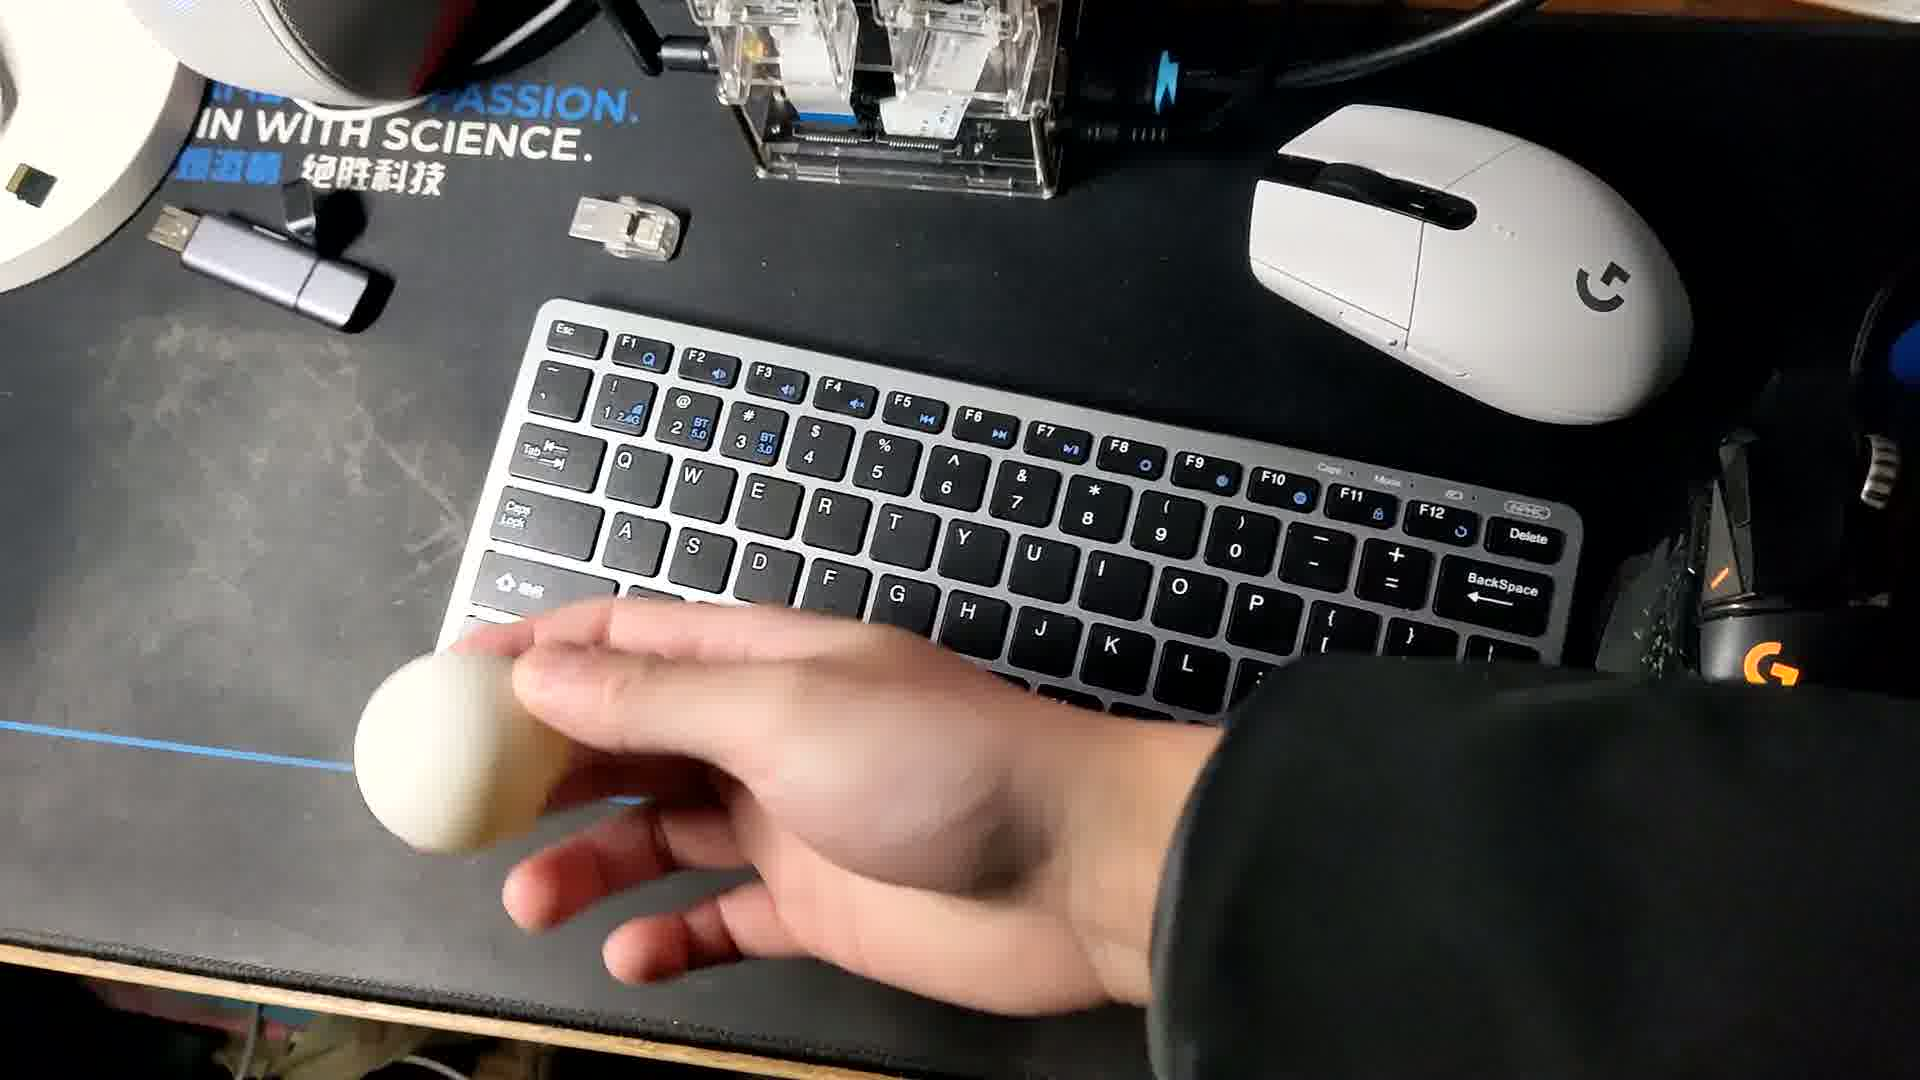Ball: (355, 659, 564, 856)
